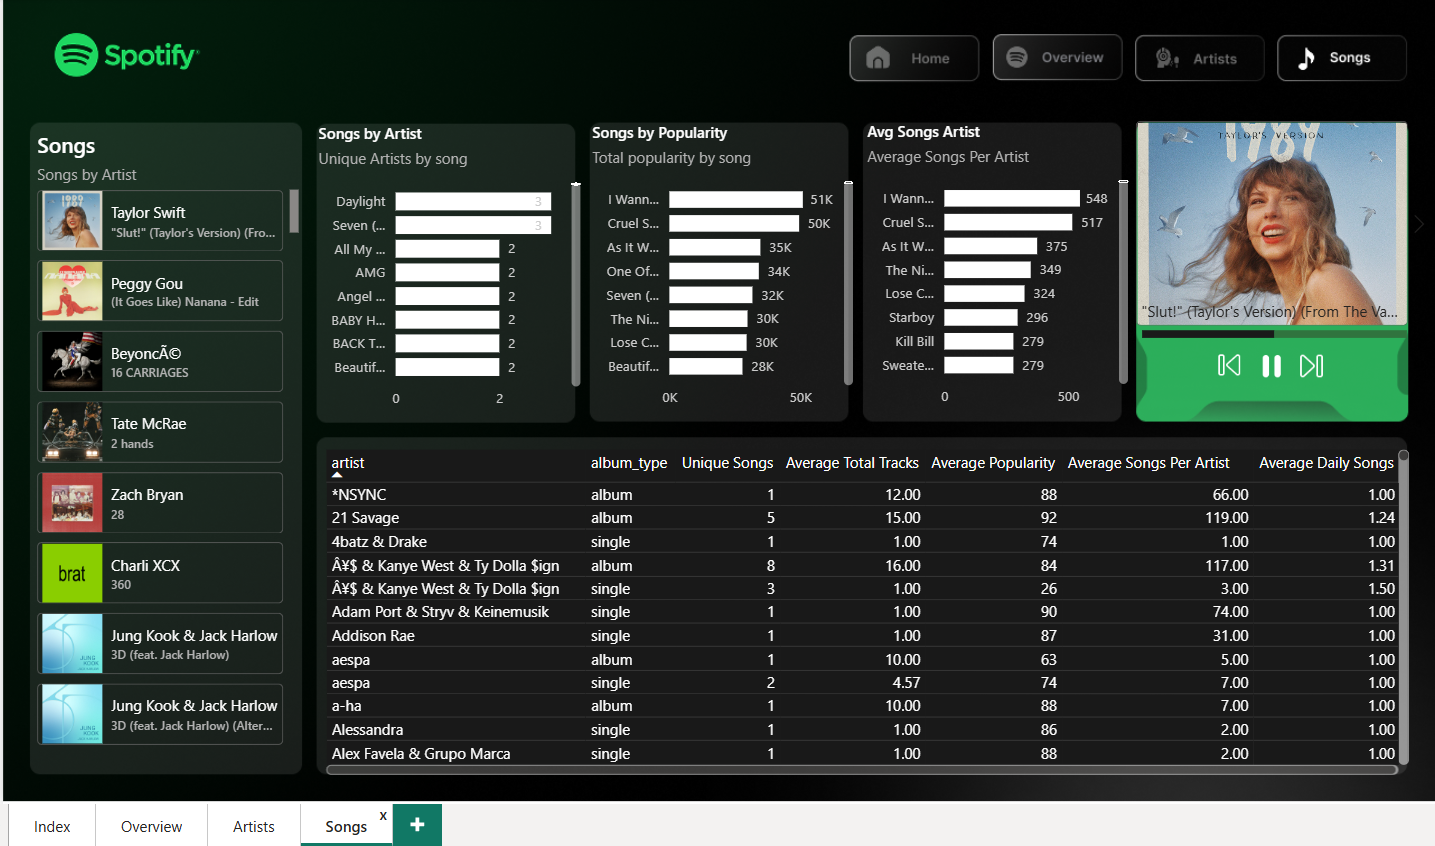

The dashboard page shown, as its layout file describes it:
{"tool":"powerbi","page":{"name":"Songs","canvas":[1280,720],"ordinal":3},"visuals":[{"type":"actionButton","box":[758.1,33.3,115.1,39.5],"z":0},{"type":"actionButton","box":[885.6,30.5,115.1,39.5],"z":1000},{"type":"actionButton","box":[1013.5,31.4,115.1,39.5],"z":2000},{"type":"actionButton","box":[1138.6,32.6,115.1,39.5],"z":3000},{"type":"advancedSlicerVisual","title":"Songs ","fields":{"Values":["Top-50-World.song"]},"box":[25.6,118.1,243,557],"z":4000},{"type":"image","box":[1123.7,314.9,19.8,27.9],"z":5000},{"type":"image","box":[1083.7,313.7,22.1,27.9],"z":6000},{"type":"image","box":[1156,316.7,26.7,23.3],"z":7000},{"type":"hundredPercentStackedBarChart","fields":{"Y":["_Measures.Average Popularity","Avg(Top-50-World.popularity)"]},"box":[1013.3,265.8,246.5,62.8],"z":8000},{"type":"advancedSlicerVisual","title":"Songs ","fields":{"Values":["Top-50-World.song"]},"box":[986.7,104.7,293.3,193],"z":9000},{"type":"shape","box":[1010.5,109.3,247.7,270.9],"z":10000},{"type":"tableEx","fields":{"Values":["Top-50-World.artist","Top-50-World.album_type","_Measures.Unique Songs","_Measures.Average Total Tracks","_Measures.Average Popularity","_Measures.Average Songs Per Artist","_Measures.Average Daily Songs"]},"box":[282.5,398.8,978.2,300],"z":14000},{"type":"clusteredBarChart","title":" Songs by Artist","fields":{"Category":["Top-50-World.song"],"Y":["_Measures.Unique Artists"]},"box":[276.7,111.6,244.2,264],"z":14001},{"type":"clusteredBarChart","title":" Songs by Popularity","fields":{"Category":["Top-50-World.song"],"Y":["Sum(Top-50-World.popularity)"]},"box":[521.9,110.2,243,264],"z":14002},{"type":"clusteredBarChart","title":"Avg  Songs  Artist","fields":{"Category":["Top-50-World.song"],"Y":["_Measures.Average Songs Per Artist"]},"box":[767.4,109.5,243,264],"z":14003}]}

Visuals, with their boxes on the page's 1280x720 design canvas (x1, y1, x2, y2). These are canvas units, not pixel positions in the 1435x846 screenshot, which may show the page scaled, cropped or inside an application window:
actionButton: 758, 33, 873, 73
actionButton: 886, 30, 1001, 70
actionButton: 1014, 31, 1129, 71
actionButton: 1139, 33, 1254, 72
"Songs " advancedSlicerVisual: 26, 118, 269, 675
image: 1124, 315, 1144, 343
image: 1084, 314, 1106, 342
image: 1156, 317, 1183, 340
hundredPercentStackedBarChart - _Measures.Average Popularity x Avg(Top-50-World.popularity): 1013, 266, 1260, 329
"Songs " advancedSlicerVisual: 987, 105, 1280, 298
shape: 1010, 109, 1258, 380
tableEx - Top-50-World.artist x Top-50-World.album_type: 282, 399, 1261, 699
" Songs by Artist" clusteredBarChart: 277, 112, 521, 376
" Songs by Popularity" clusteredBarChart: 522, 110, 765, 374
"Avg  Songs  Artist" clusteredBarChart: 767, 110, 1010, 374
